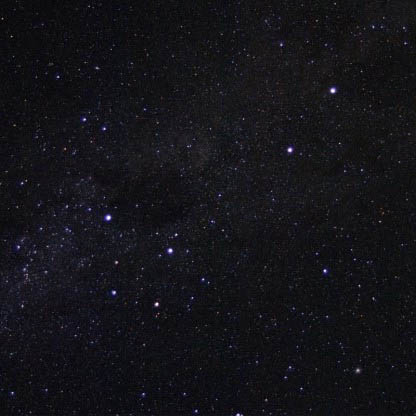Southern Cross: (104, 283, 125, 306), (157, 239, 177, 259), (97, 208, 116, 226), (145, 297, 163, 316)
